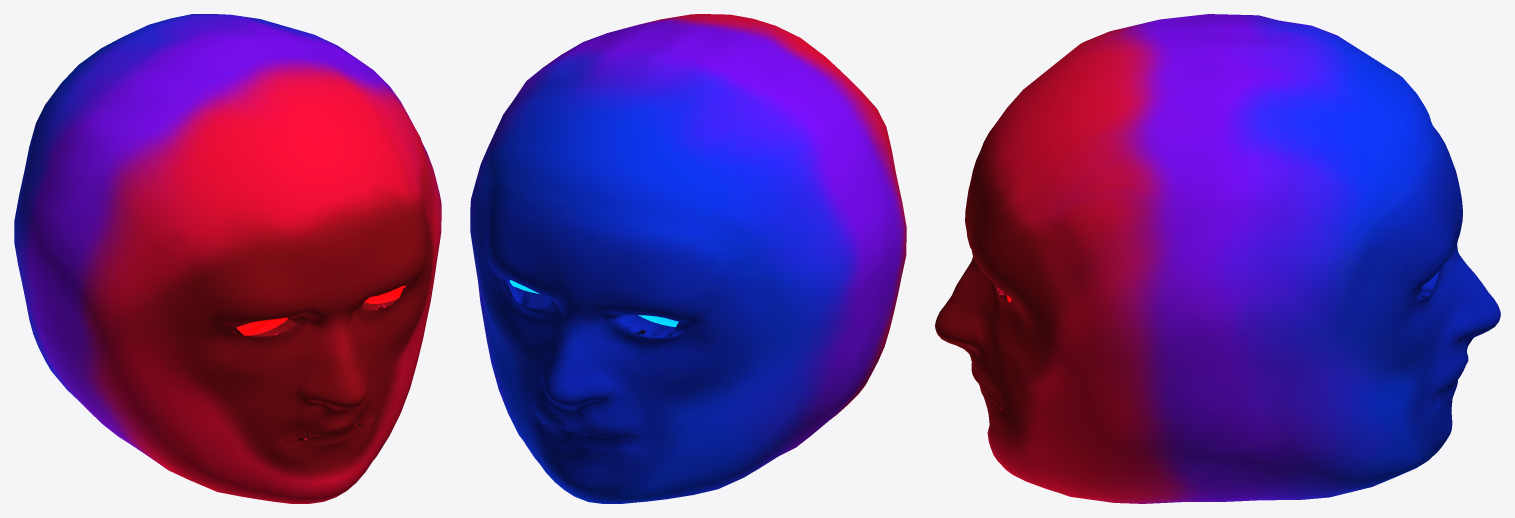
File: mask.fbx
3 renders of one model, left to right at view 1: azimuth 30°, elevation 25°; view 2: azimuth 150°, elevation 25°; view 3: azimuth 270°, elevation 25°, orthographic. The views are drawn at different scales.
Visible parts, largest first — view 1: Mask; view 2: Mask; view 3: Mask.
Part boxes in pixels (bbox=[...]): Mask: bbox=[14, 14, 441, 503]; Mask: bbox=[470, 14, 906, 503]; Mask: bbox=[935, 14, 1500, 503].
Size of the model in its own units: 0.2844 by 0.2917 by 0.3404.
Materials: 1 (1 with a texture image).
